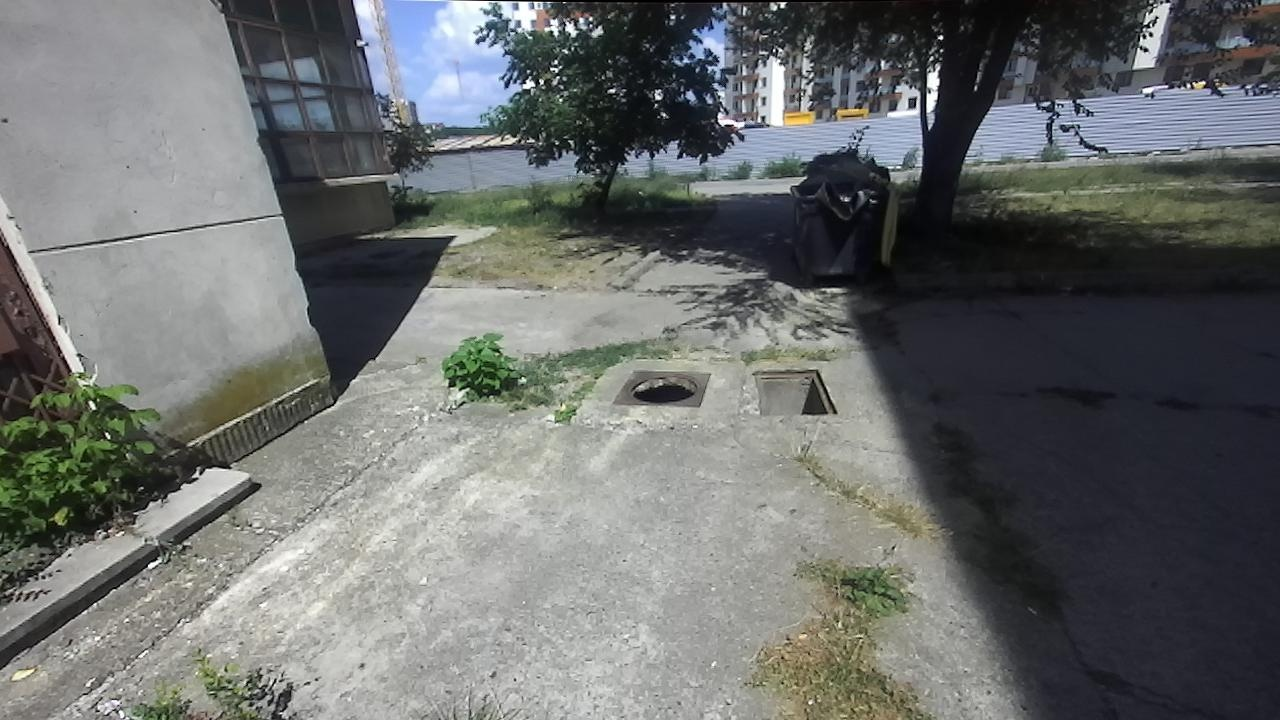drain: (749, 365, 841, 415), (624, 370, 701, 403)
